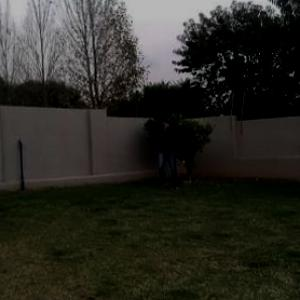follow: (156, 110, 177, 193)
